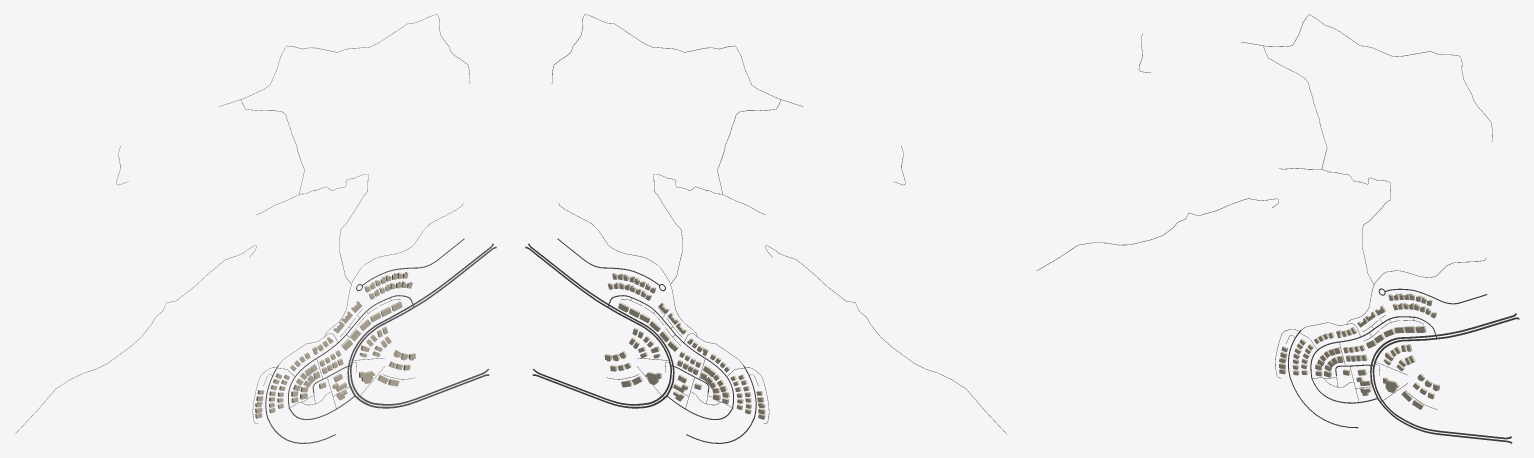
File: historic-palestine-09_26_3508_3208.glb
The picture shows the model from 3 angles, left to right: view 1: azimuth 30°, elevation 25°; view 2: azimuth 150°, elevation 25°; view 3: azimuth 330°, elevation 25°; orthographic projection.
Parts seen in each view (by area): view 1: Road הצבי, Road הצבי.001; view 2: Road הצבי, Road הצבי.001; view 3: Road הצבי, Road הצבי.001.
Boxes of the visible parts, x1,y1,x2,y2 form: Road הצבי: (347, 243, 493, 408); Road הצבי.001: (350, 246, 496, 405); Road הצבי: (528, 243, 674, 408); Road הצבי.001: (525, 246, 671, 405); Road הצבי: (1370, 313, 1516, 443); Road הצבי.001: (1372, 317, 1519, 439).
Size of the model in its own units: 1500 by 1201 by 8.7.
